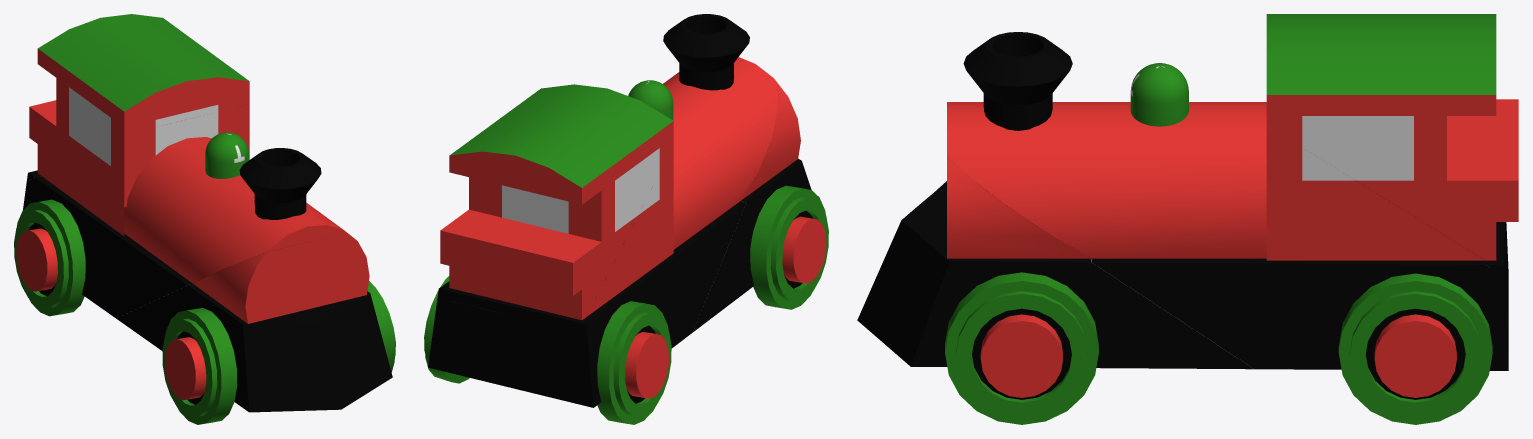
Rendered from Train_Broken.fbx.
3 views of the same model, side by side, from view 1: azimuth 30°, elevation 25°; view 2: azimuth 150°, elevation 25°; view 3: azimuth 270°, elevation 25° (orthographic). The views are drawn at different scales.
Parts seen in each view (by area): view 1: TrainBro.002, TrainBro, TrainBro.001; view 2: TrainBro.002, TrainBro.001, TrainBro; view 3: TrainBro.002, TrainBro, TrainBro.001.
Part boxes in pixels (x1,y1,x2,y2): TrainBro.002: (14, 97, 346, 318); TrainBro: (116, 232, 395, 424); TrainBro.001: (26, 14, 249, 181); TrainBro.002: (424, 14, 778, 424); TrainBro.001: (437, 84, 673, 333); TrainBro: (692, 83, 828, 332); TrainBro.002: (947, 32, 1508, 424); TrainBro: (857, 157, 1253, 424); TrainBro.001: (1266, 14, 1518, 277).
Bounding box in the file's own units: 55.38 × 65.95 × 118.
